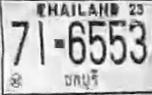1: (38, 20, 44, 65)
3: (128, 20, 146, 64)
5: (87, 20, 106, 64), (108, 19, 126, 64)
6: (68, 20, 85, 64)
7: (11, 20, 28, 65)
CBI: (61, 68, 100, 92)
